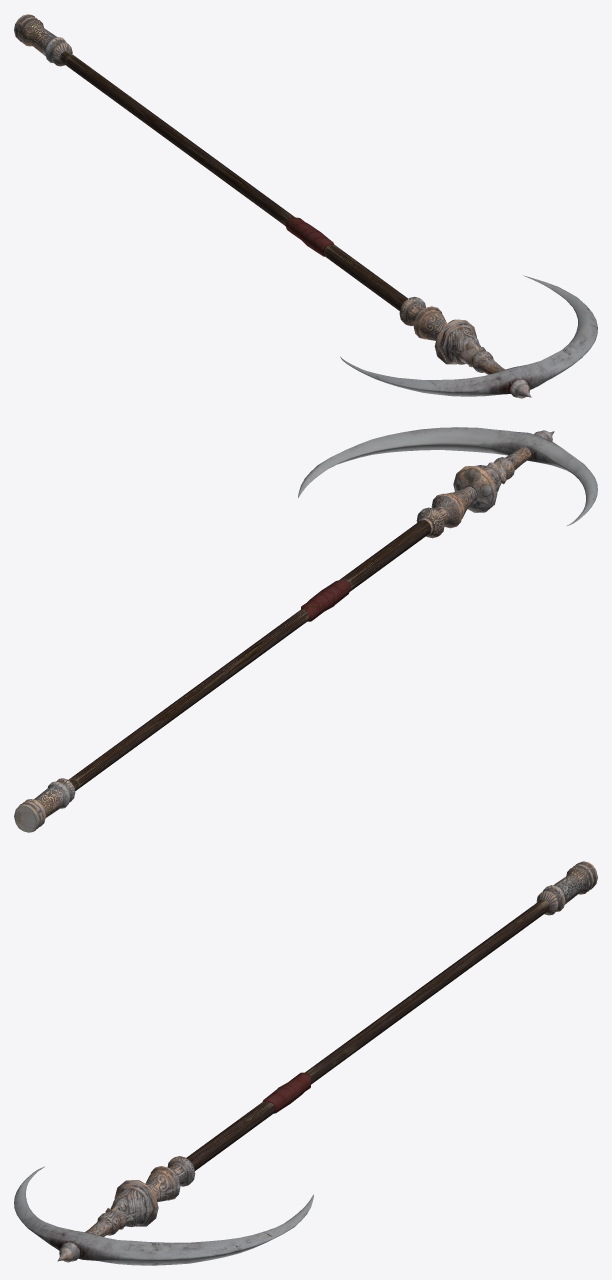
The model's file is haloscythe.fbx.
3 renders of one model, top to bottom at view 1: azimuth 30°, elevation 25°; view 2: azimuth 150°, elevation 25°; view 3: azimuth 330°, elevation 25°, orthographic. The views are drawn at different scales.
Parts seen in each view (by area): view 1: WP_A_1053; view 2: WP_A_1053; view 3: WP_A_1053.
Boxes of the visible parts, box(x1,y1,x2,y2) form: WP_A_1053: box(14, 14, 597, 398); WP_A_1053: box(14, 427, 597, 832); WP_A_1053: box(14, 861, 597, 1265).
Size of the model in its own units: 71.24 by 12.53 by 260.
Materials: 1 (1 with a texture image).
